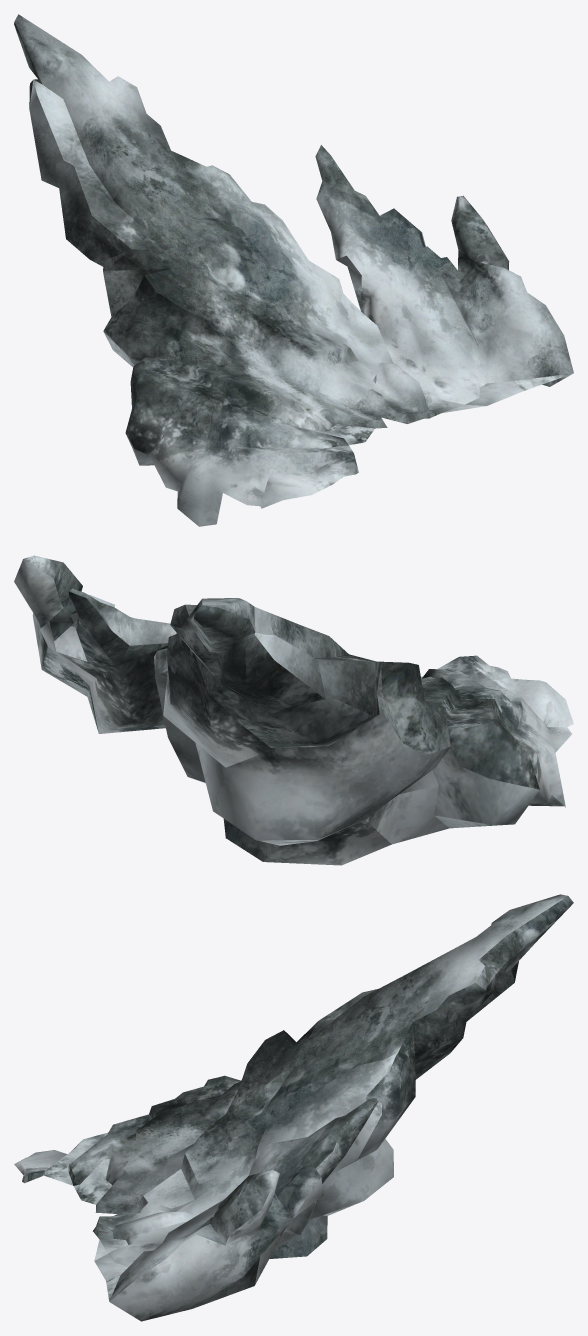
Rendered from S_Rock_White039.FBX.
The picture shows the model from 3 angles, top to bottom: view 1: azimuth 30°, elevation 25°; view 2: azimuth 150°, elevation 25°; view 3: azimuth 270°, elevation 25°; orthographic projection. The views are drawn at different scales.
Visible parts, largest first — view 1: S_Rock_White039; view 2: S_Rock_White039; view 3: S_Rock_White039.
Boxes of the visible parts, x1=… form: S_Rock_White039: x1=14, y1=14, x2=573, y2=526; S_Rock_White039: x1=14, y1=555, x2=573, y2=865; S_Rock_White039: x1=14, y1=894, x2=573, y2=1321.
Bounding box in the file's own units: 411 × 512 × 317.
